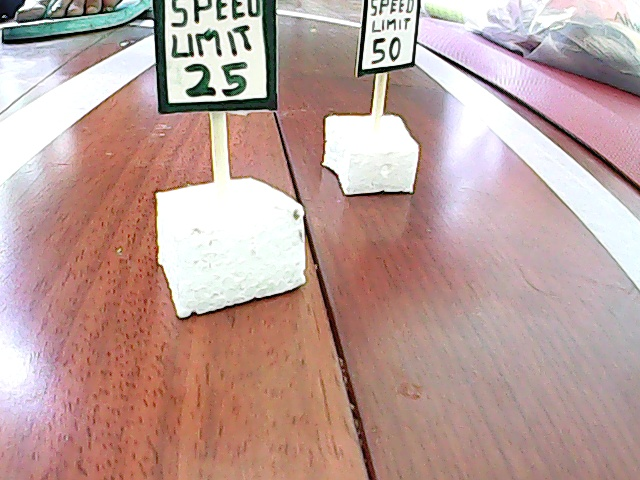speed_25: (137, 1, 319, 289)
speed_50: (332, 1, 438, 195)
